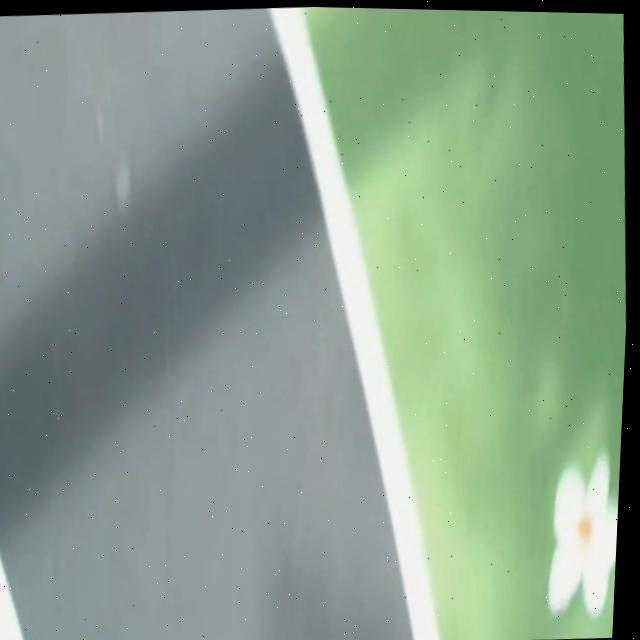right: (270, 7, 439, 640)
